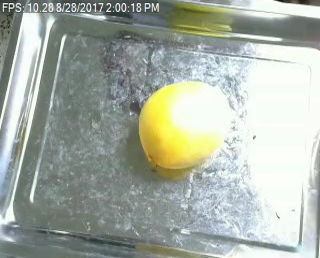Mango: (134, 80, 232, 169)
